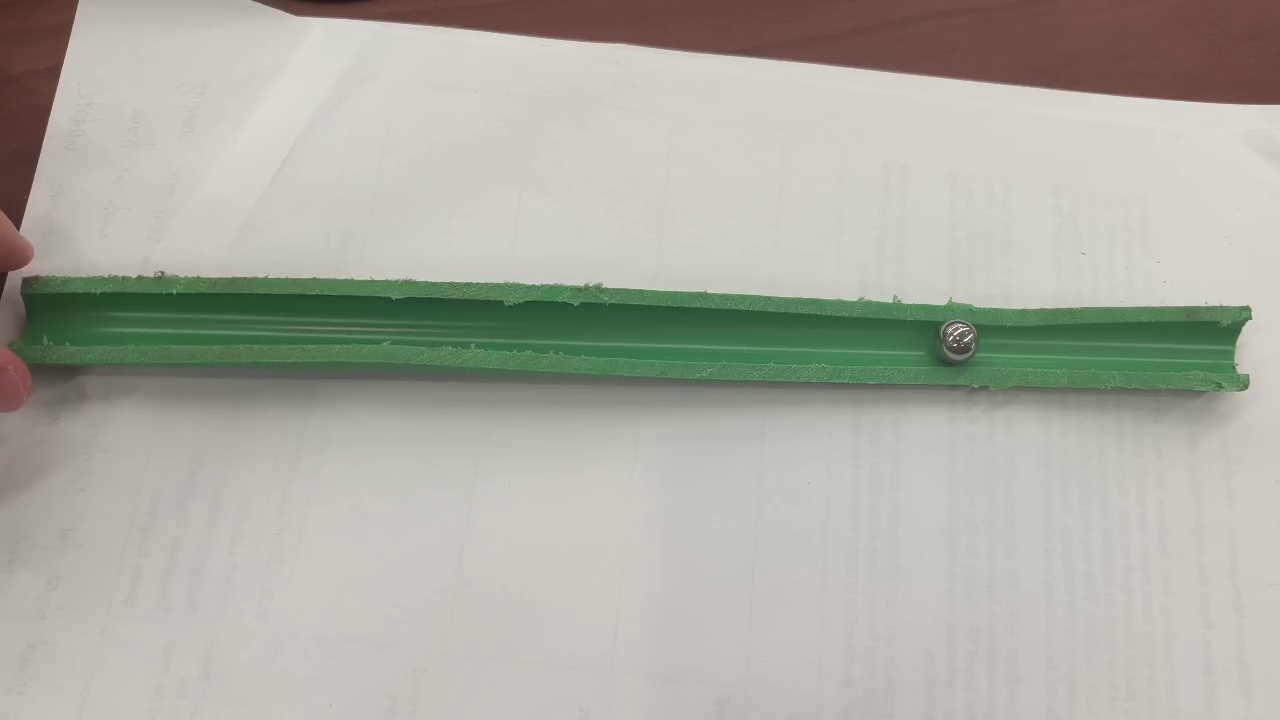ball: (941, 320, 977, 363)
